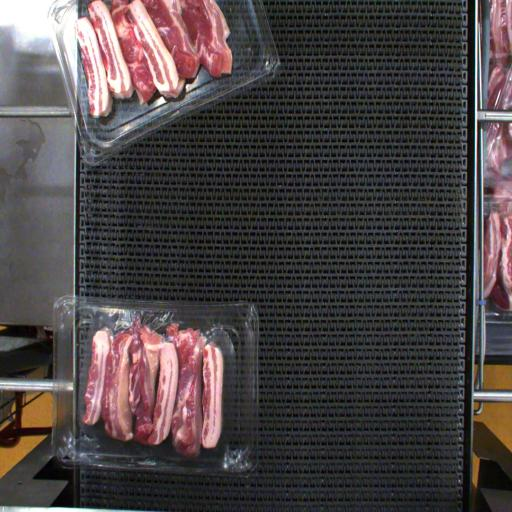unsealed: (54, 303, 256, 414)
